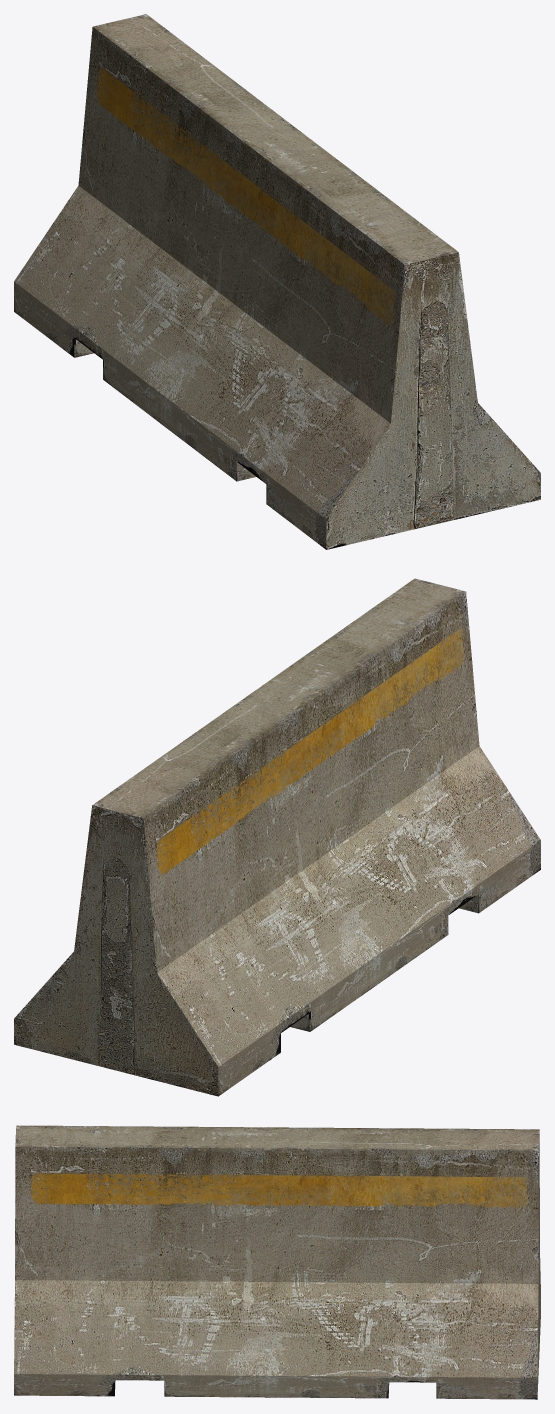
Rendered from Road_block_v1.glb.
3 views of the same model, one above another, from view 1: azimuth 30°, elevation 25°; view 2: azimuth 150°, elevation 25°; view 3: azimuth 270°, elevation 25° (orthographic). The views are drawn at different scales.
Parts seen in each view (by area): view 1: Road_block_v1; view 2: Road_block_v1; view 3: Road_block_v1.
Boxes of the visible parts, x1,y1,x2,y2 form: Road_block_v1: (14,14,540,549); Road_block_v1: (14,578,540,1096); Road_block_v1: (14,1125,540,1399).
Size of the model in its own units: 0.9352 by 1.07 by 2.36.
Materials: 1 (1 with a texture image).
